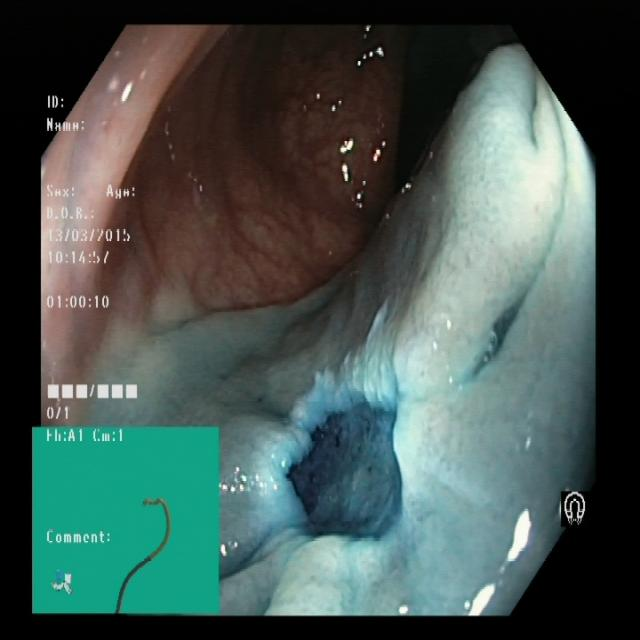dyed-resection-margins: (248, 313, 423, 561)
